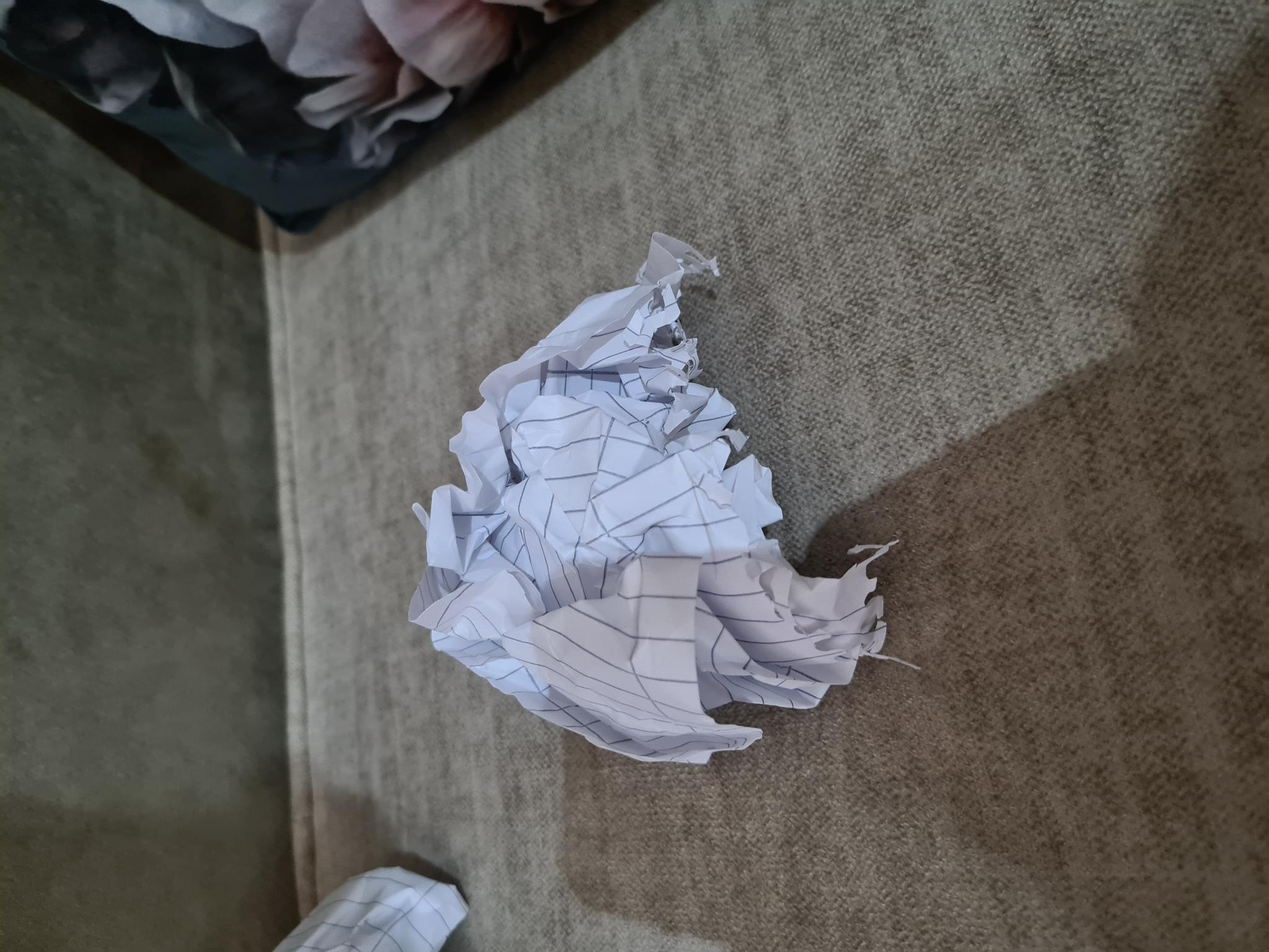Kertas: (213, 469, 597, 781)
